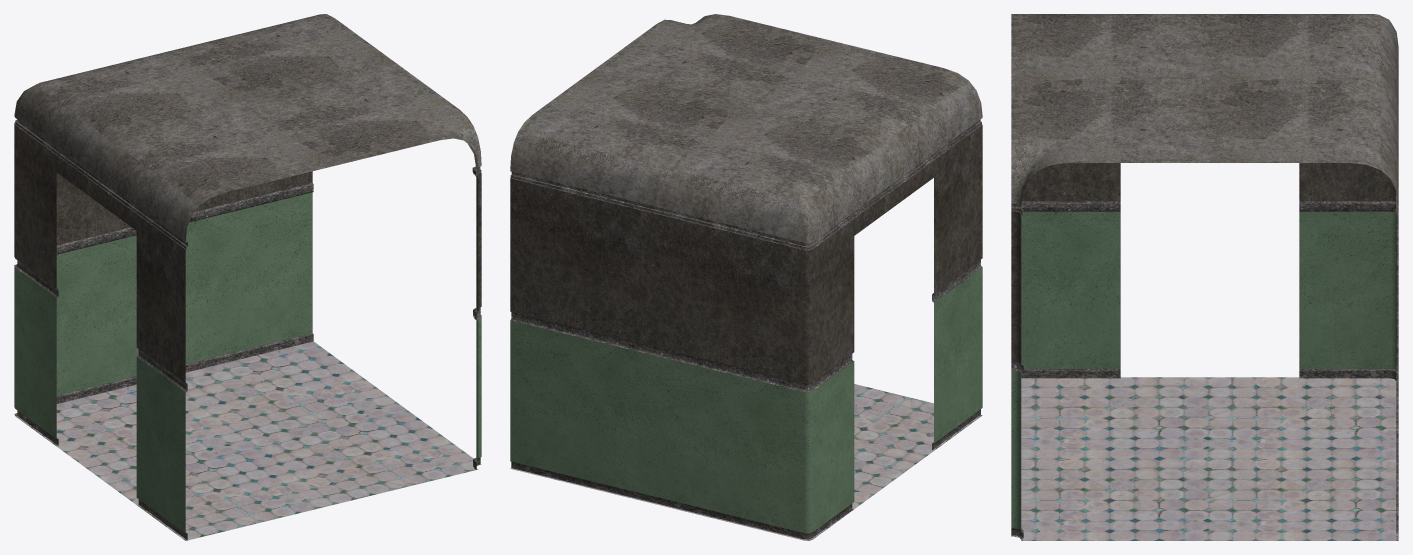
File: CorridorBlockCorner_WithDoorway_02.FBX
3 renders of one model, left to right at view 1: azimuth 30°, elevation 25°; view 2: azimuth 150°, elevation 25°; view 3: azimuth 270°, elevation 25°, orthographic. The views are drawn at different scales.
Visible parts, largest first — view 1: CornerWithDoorway_02; view 2: CornerWithDoorway_02; view 3: CornerWithDoorway_02.
Part boxes in pixels (left/top/right/bottom): CornerWithDoorway_02: left=14, top=14, right=481, bottom=540; CornerWithDoorway_02: left=510, top=14, right=982, bottom=540; CornerWithDoorway_02: left=1011, top=14, right=1398, bottom=540.
Bounding box in the file's own units: 76.77 × 82.67 × 76.77.
